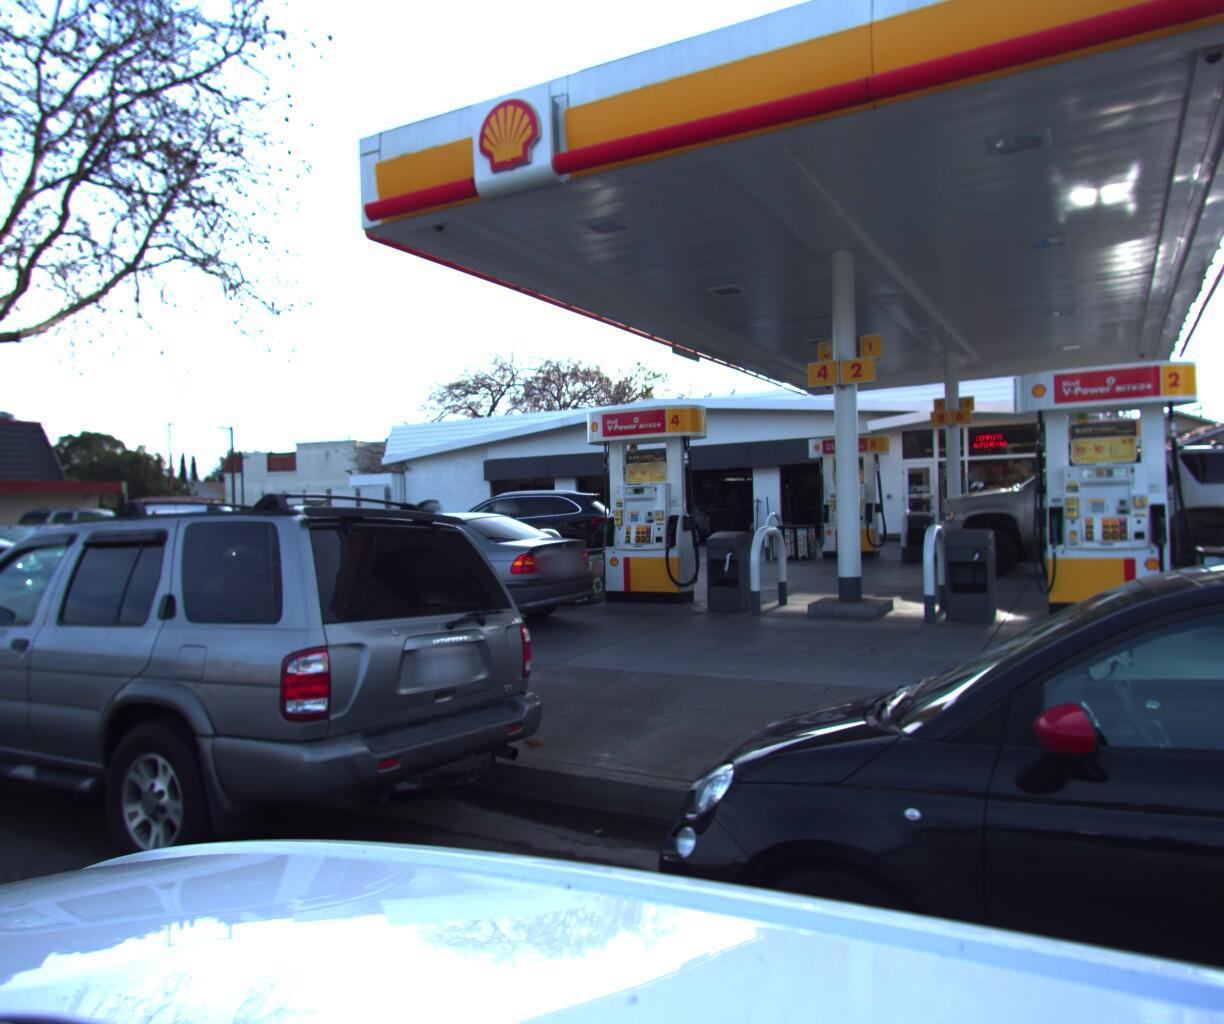car: (592, 514, 1224, 1024), (0, 500, 564, 966), (250, 513, 611, 648), (377, 482, 630, 580), (58, 515, 252, 583), (103, 511, 290, 571), (0, 522, 155, 573), (0, 526, 59, 641), (0, 522, 95, 584), (0, 508, 24, 594)
